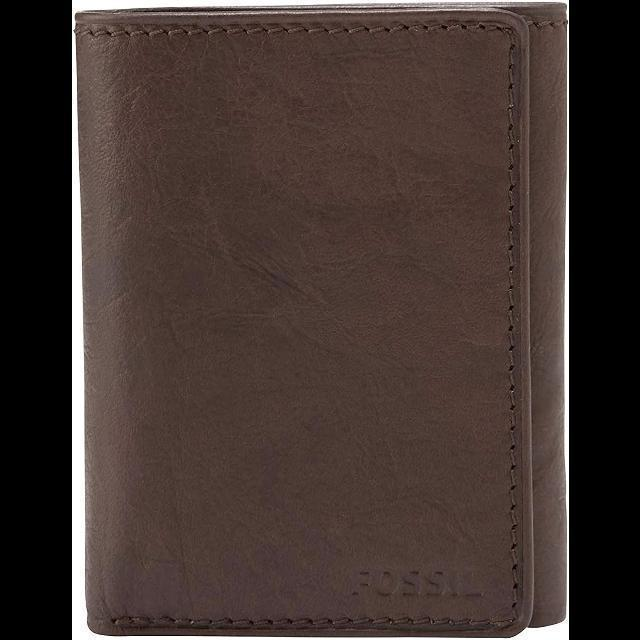wallet: (80, 6, 568, 634)
